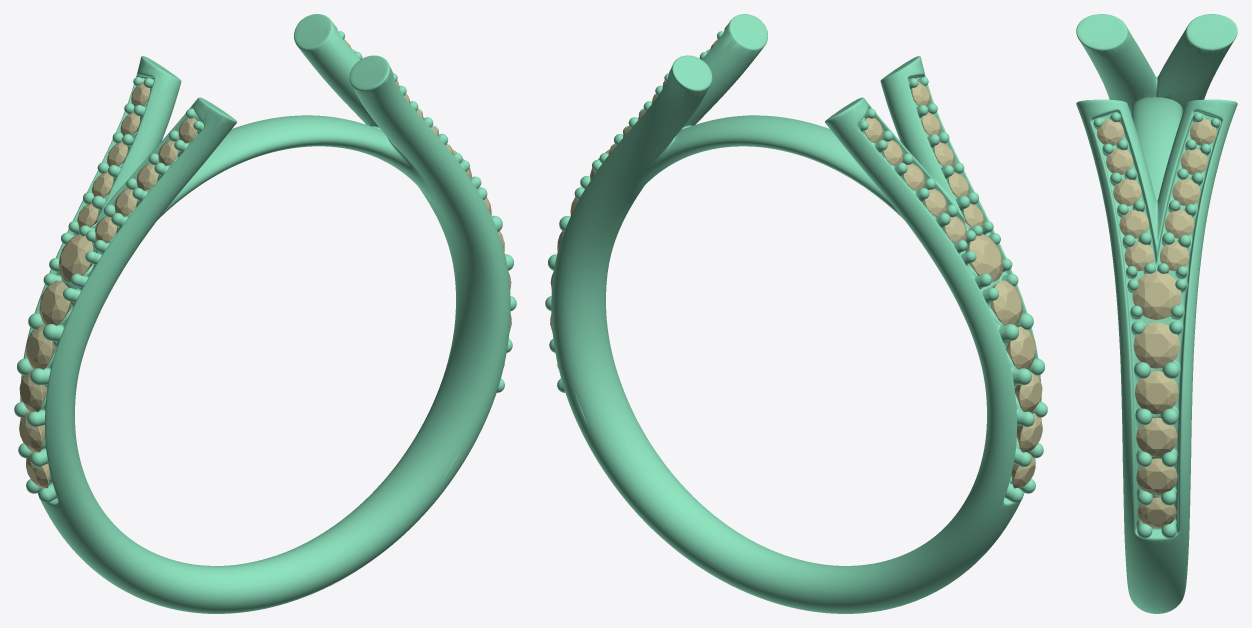
3 views of the same model, side by side, from view 1: azimuth 30°, elevation 25°; view 2: azimuth 150°, elevation 25°; view 3: azimuth 270°, elevation 25° (orthographic). The views are drawn at different scales.
Parts seen in each view (by area): view 1: Metal02, Diamond_Gem.016, Diamond_Gem.017, Diamond_Gem.018, Diamond_Gem.019; view 2: Metal02, Diamond_Gem.016, Diamond_Gem.017, Diamond_Gem.018, Diamond_Gem.019; view 3: Metal02, Diamond_Gem.015, Diamond_Gem.014, Diamond_Gem.013, Diamond_Gem.012, Diamond_Gem.011, Diamond_Gem.010, Diamond_Gem.002, Diamond_Gem.005, Diamond_Gem.004, Diamond_Gem.003, Diamond_Gem.001 (+5 smaller).
Part boxes in pixels (x1,y1,x2,y2): Metal02: [14, 14, 516, 613]; Diamond_Gem.016: [58, 234, 93, 282]; Diamond_Gem.017: [39, 280, 71, 325]; Diamond_Gem.018: [26, 326, 56, 369]; Diamond_Gem.019: [19, 372, 47, 412]; Metal02: [545, 14, 1047, 613]; Diamond_Gem.016: [968, 234, 1003, 282]; Diamond_Gem.017: [990, 280, 1022, 325]; Diamond_Gem.018: [1006, 326, 1035, 369]; Diamond_Gem.019: [1014, 372, 1042, 412]; Metal02: [1076, 14, 1237, 613]; Diamond_Gem.015: [1132, 271, 1181, 319]; Diamond_Gem.014: [1133, 322, 1179, 368]; Diamond_Gem.013: [1135, 371, 1178, 414]; Diamond_Gem.012: [1136, 417, 1177, 456]; Diamond_Gem.011: [1136, 458, 1177, 494]; Diamond_Gem.010: [1138, 497, 1176, 527]; Diamond_Gem.002: [1119, 210, 1148, 238]; Diamond_Gem.005: [1165, 210, 1194, 238]; Diamond_Gem.004: [1160, 242, 1189, 271]; Diamond_Gem.003: [1124, 242, 1153, 271]; Diamond_Gem.001: [1113, 178, 1141, 206].
Size of the model in its own units: 21.34 by 22.82 by 6.27.
